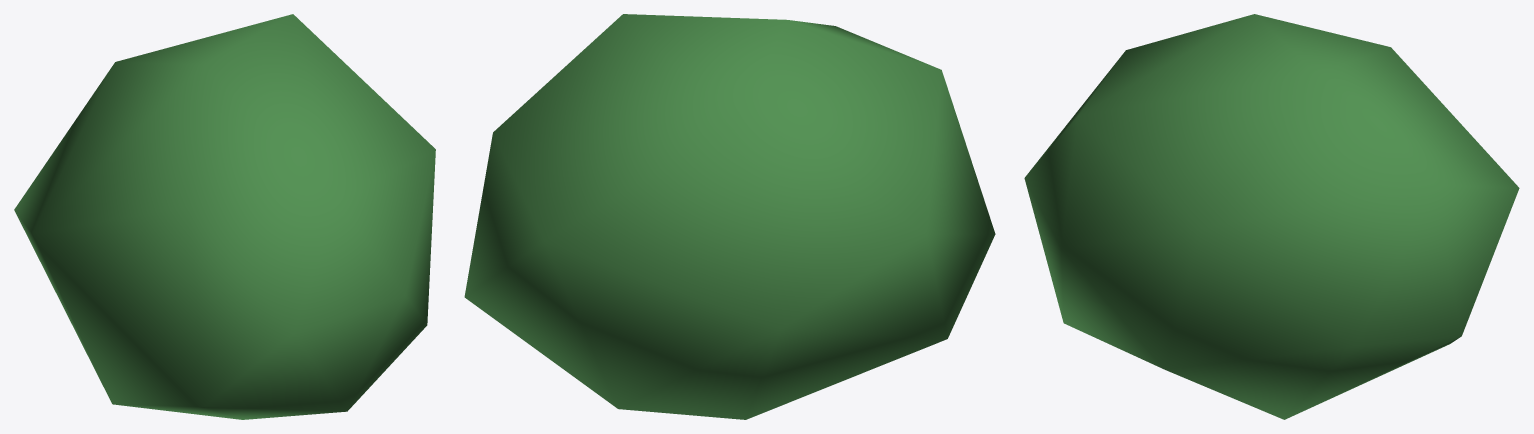
Rendered from Bush-Simple.fbx.
3 renders of one model, left to right at view 1: azimuth 30°, elevation 25°; view 2: azimuth 150°, elevation 25°; view 3: azimuth 270°, elevation 25°, orthographic. The views are drawn at different scales.
Visible parts, largest first — view 1: Bush02.001; view 2: Bush02.001; view 3: Bush02.001.
Part boxes in pixels (box(x1,y1,x2,y2)): Bush02.001: box(14, 14, 435, 419); Bush02.001: box(464, 14, 995, 419); Bush02.001: box(1024, 14, 1519, 419).
Size of the model in its own units: 136 by 119 by 152.
